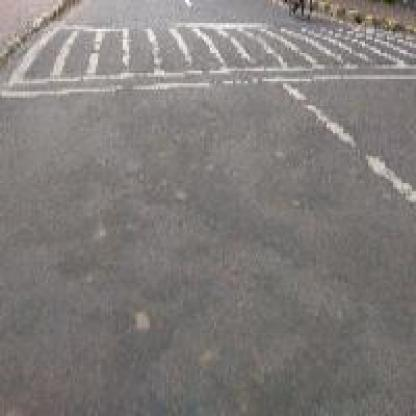Speed Bump: (12, 25, 412, 96)
